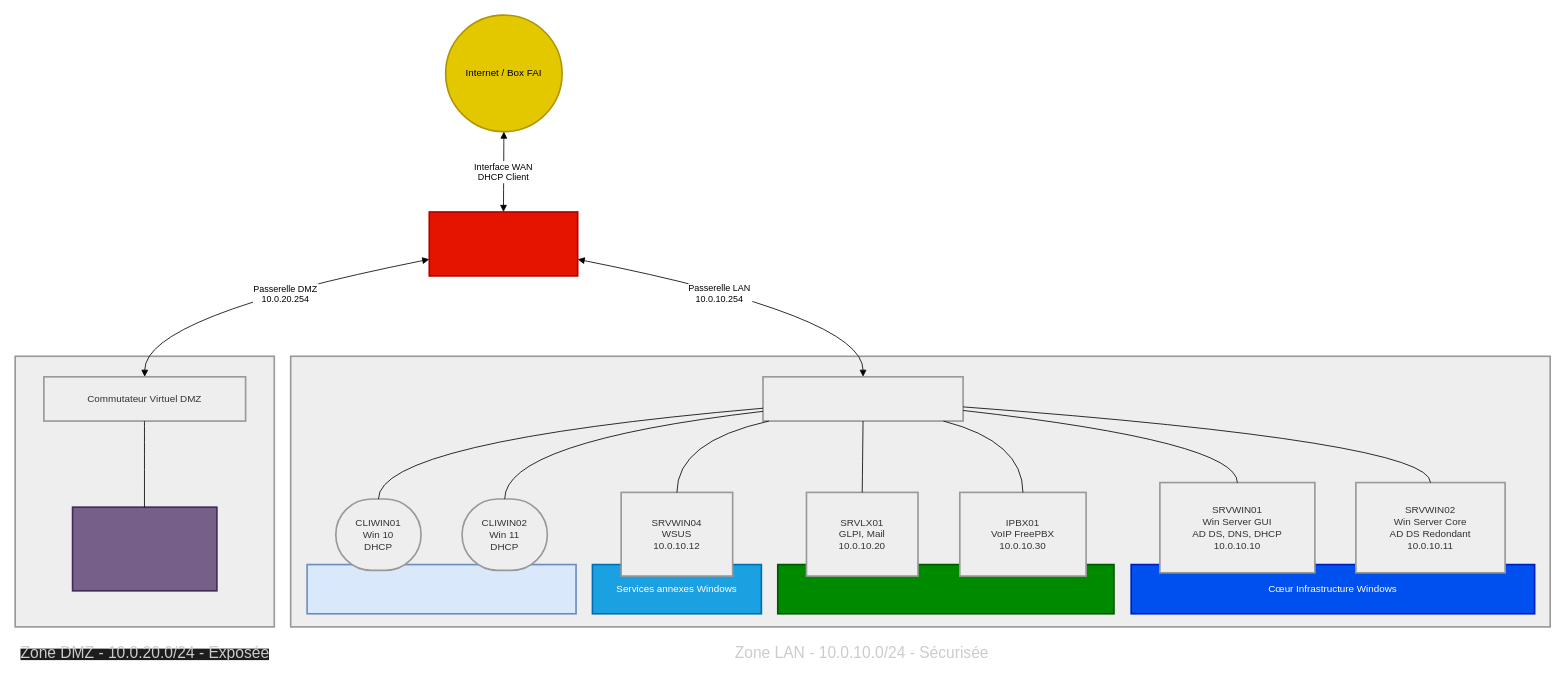
The diagram is 1565 pixels wide and 677 high, and some of its shapes have lost their labels. The shapes that lost their labels are listed below. From the top down, each one's centre as x and y in pixels, then its label:
At pixel 503 243: "Pare-feu pfSense FW01".
At pixel 862 398: "Commutateur Virtuel LAN".
At pixel 144 548: "Serveur Web Interne/Externe 10.0.20.10".
At pixel 441 588: "Postes clients".
At pixel 945 588: "Services Debian/Linux".
